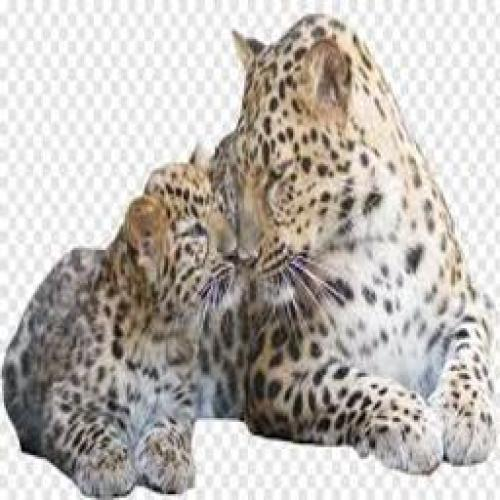amur_leopard-endangered: (219, 10, 499, 468), (9, 148, 233, 500)
